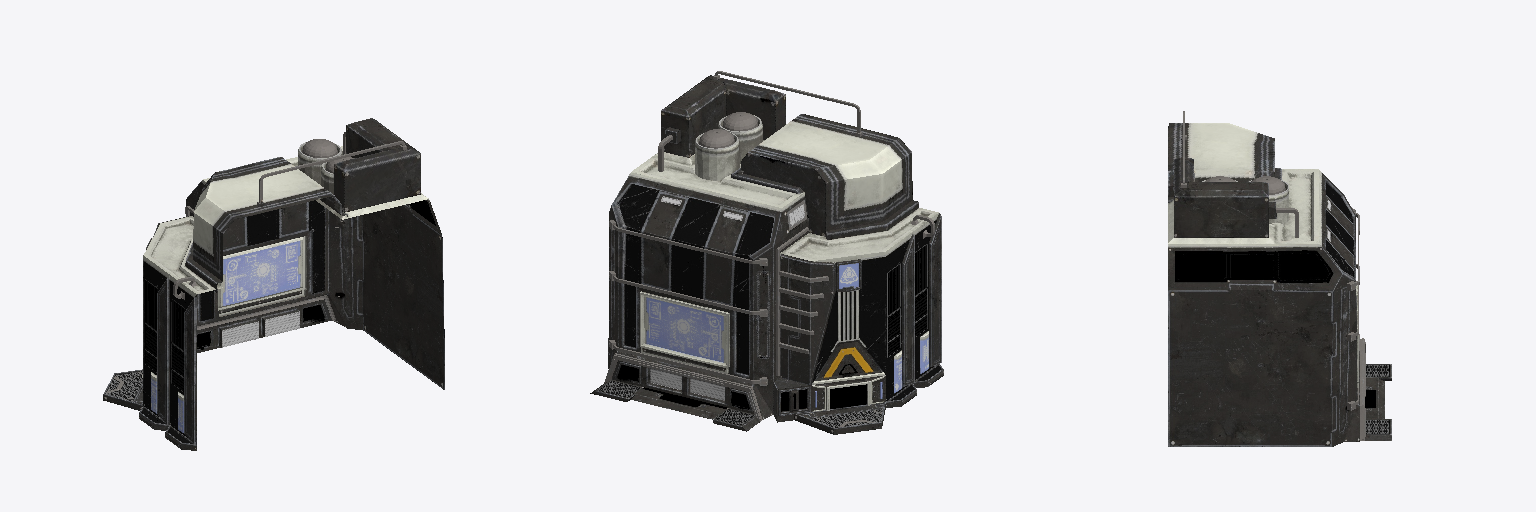
3 views of the same model, side by side, from view 1: azimuth 30°, elevation 25°; view 2: azimuth 150°, elevation 25°; view 3: azimuth 270°, elevation 25° (orthographic).
Visible parts, largest first — view 1: Box001; view 2: Box001; view 3: Box001.
Part boxes in pixels (left/top/right/bottom): Box001: left=103, top=118, right=444, bottom=450; Box001: left=590, top=71, right=943, bottom=434; Box001: left=1168, top=111, right=1391, bottom=446.
Bounding box in the file's own units: 38.72 × 35 × 28.19.
1 materials, 1 textured.